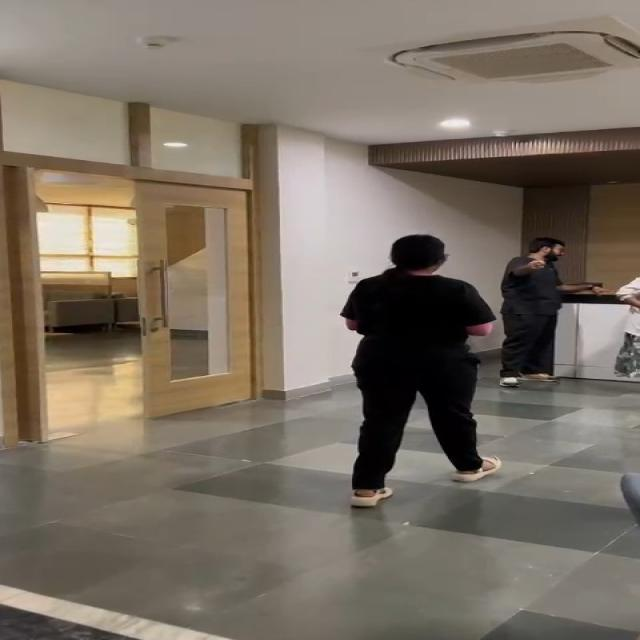door: (137, 142, 253, 414)
floor: (0, 457, 624, 640), (48, 343, 150, 455)
furniture: (33, 263, 142, 337)
moving_object: (334, 230, 488, 506), (481, 222, 582, 402)
wall: (275, 138, 640, 232)
